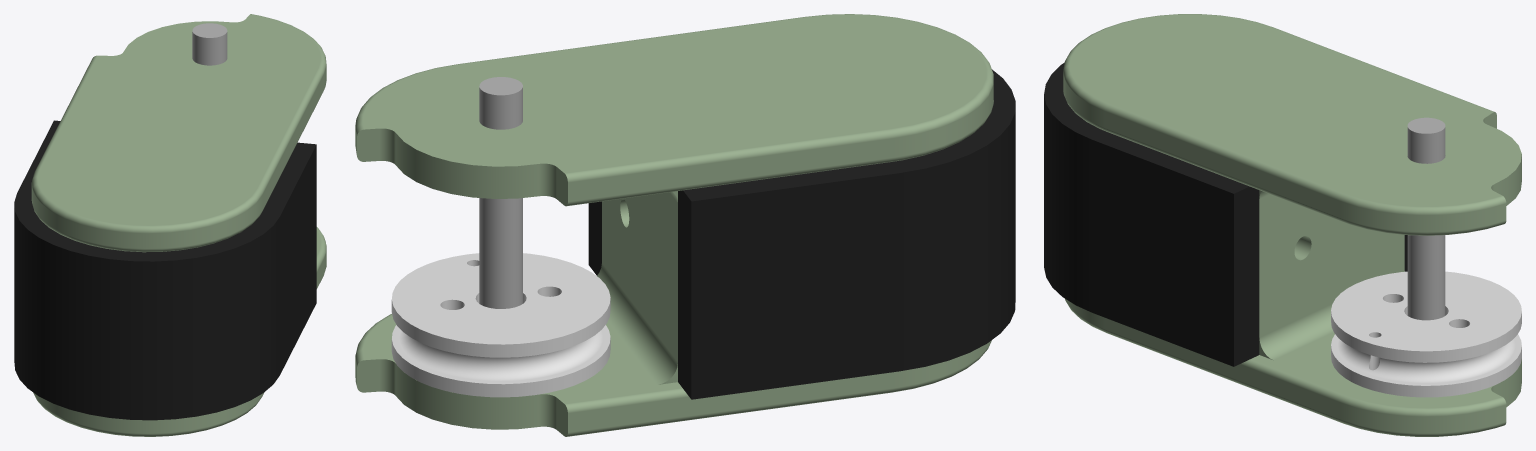
Rendered from SimplePrissGribehaand_Finger1_Tip.obj.
3 renders of one model, left to right at view 1: azimuth 30°, elevation 25°; view 2: azimuth 150°, elevation 25°; view 3: azimuth 270°, elevation 25°, orthographic. The views are drawn at different scales.
Visible parts, largest first — view 1: Component19\thpr2560sfwn, Component40\thpr2560sfwn, Component31\thpr2560sfwn; view 2: Component40\thpr2560sfwn, Component19\thpr2560sfwn, Component70\thpr2560sfwn, Component31\thpr2560sfwn; view 3: Component40\thpr2560sfwn, Component19\thpr2560sfwn, Component70\thpr2560sfwn, Component31\thpr2560sfwn.
Part boxes in pixels (<box>): Component19\thpr2560sfwn: <box>14,120,316,420</box>; Component40\thpr2560sfwn: <box>31,14,326,436</box>; Component31\thpr2560sfwn: <box>192,23,227,65</box>; Component40\thpr2560sfwn: <box>355,14,993,436</box>; Component19\thpr2560sfwn: <box>588,69,1015,399</box>; Component70\thpr2560sfwn: <box>391,253,610,397</box>; Component31\thpr2560sfwn: <box>479,77,522,308</box>; Component40\thpr2560sfwn: <box>1063,14,1521,436</box>; Component19\thpr2560sfwn: <box>1044,62,1407,366</box>; Component70\thpr2560sfwn: <box>1331,271,1521,397</box>; Component31\thpr2560sfwn: <box>1407,117,1445,320</box>.
Size of the model in its own units: 0.0382 by 0.025 by 0.0375.
